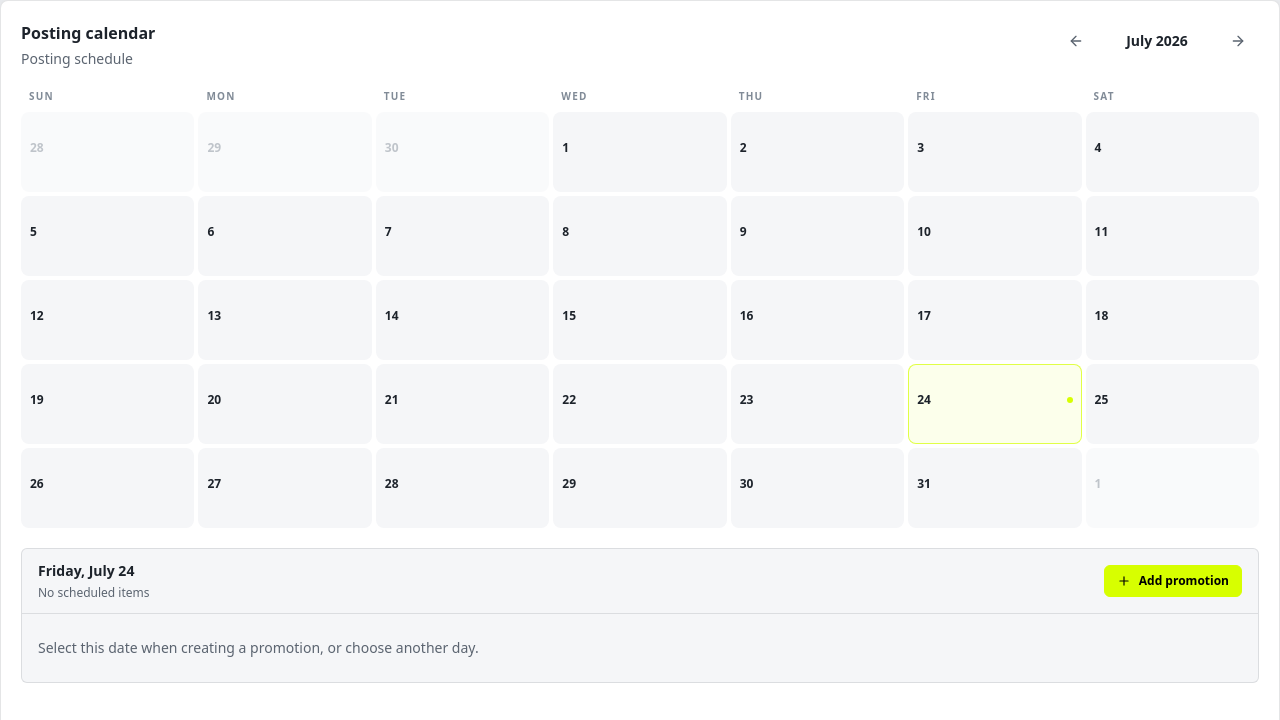
Scenario: CalendarPanel › opens date actions from the custom right-click menu
Right-click the button "24": (995, 404) [908, 364, 1082, 444]
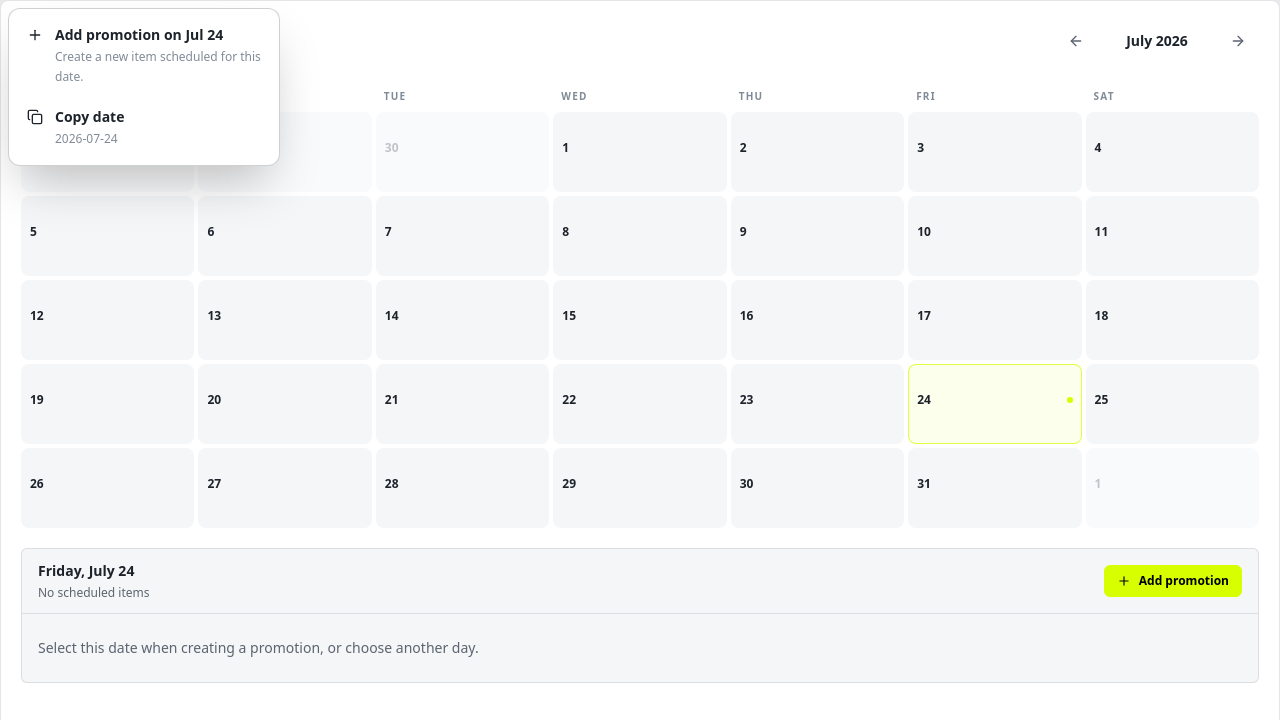
expect the menu is shown: met, box [8, 8, 280, 166]
expect the menu item "Add promotion on" is shown: met, box [15, 15, 273, 97]
